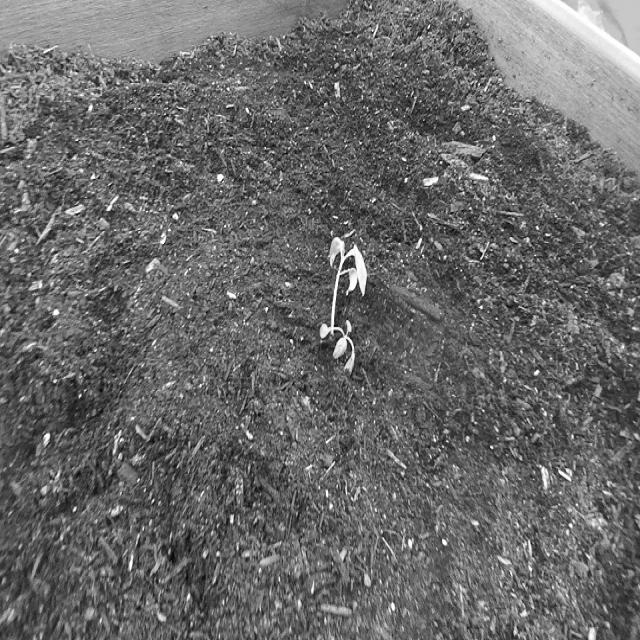Healthy: (315, 228, 370, 384)
